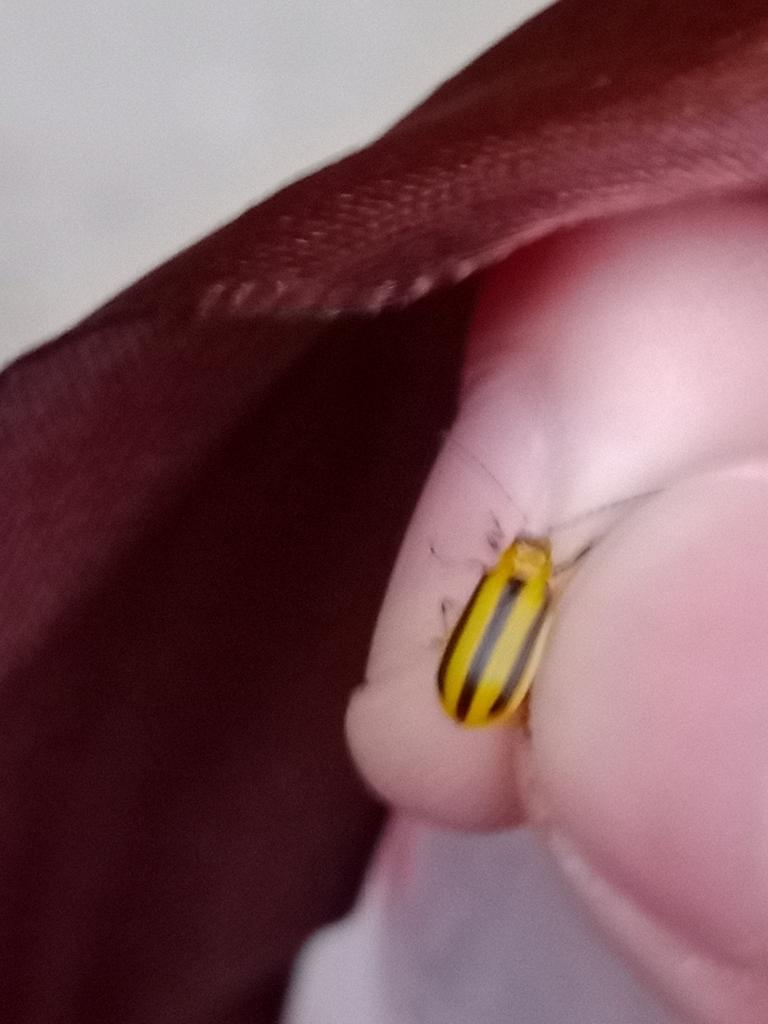potato_beetle: (349, 394, 689, 786)
